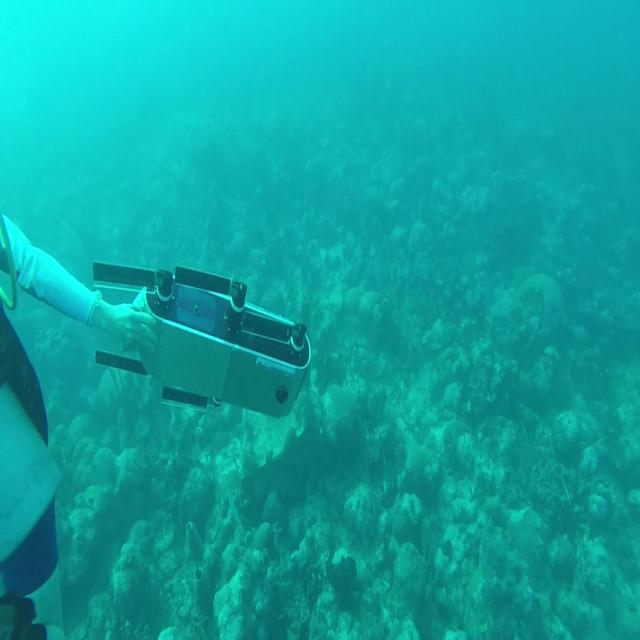human: (0, 211, 158, 638)
